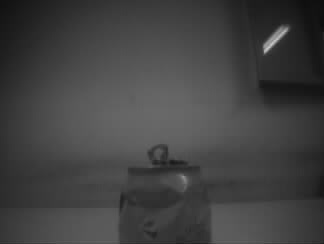Tin can: (117, 141, 213, 244)
